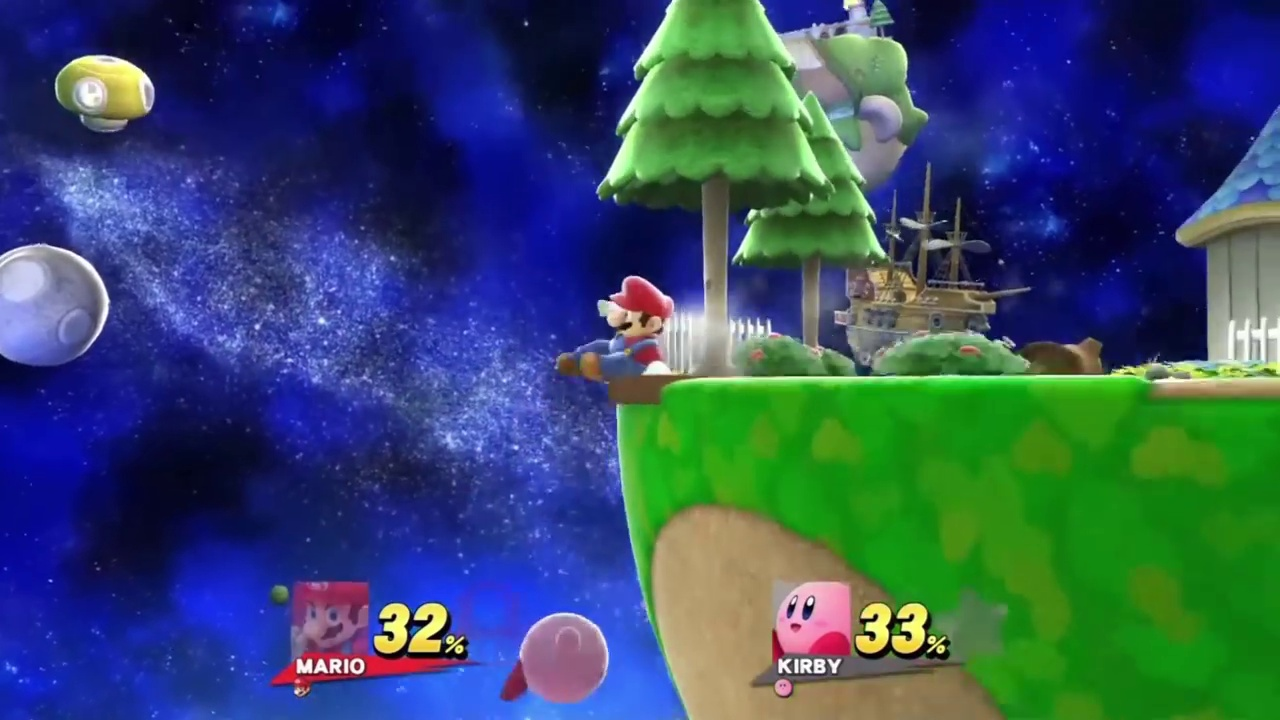Mario: (555, 275, 676, 376)
